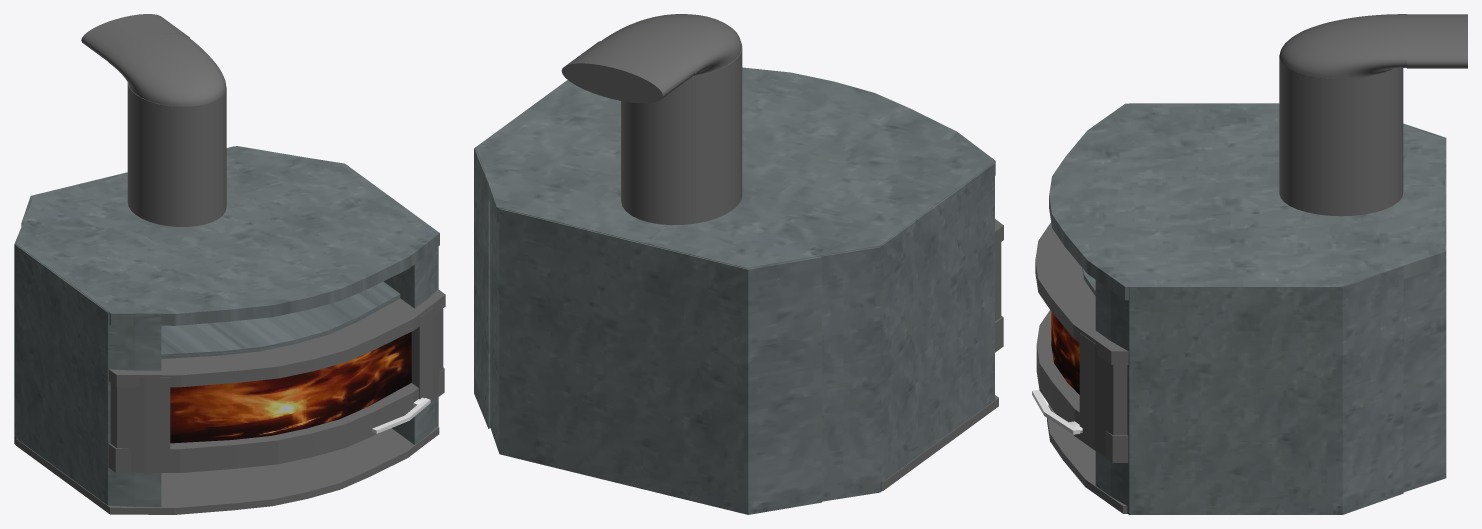
The model's file is sh-contrib-ator-haut.glb.
The picture shows the model from 3 angles, left to right: view 1: azimuth 30°, elevation 25°; view 2: azimuth 150°, elevation 25°; view 3: azimuth 270°, elevation 25°; orthographic projection. The views are drawn at different scales.
Visible parts, largest first — view 1: Extruded_Object_1_1, Extruded_Object_2_2, Extruded_Object_9_10, Extruded_Object_10_13; view 2: Extruded_Object_1_1, Extruded_Object_2_2; view 3: Extruded_Object_1_1, Extruded_Object_2_2, Extruded_Object_9_10, Extruded_Object_10_13.
Part boxes in pixels (x1=…): Extruded_Object_1_1: x1=14, y1=146, x2=439, y2=506; Extruded_Object_2_2: x1=15, y1=14, x2=445, y2=514; Extruded_Object_9_10: x1=170, y1=332, x2=411, y2=443; Extruded_Object_10_13: x1=372, y1=397, x2=430, y2=433; Extruded_Object_1_1: x1=474, y1=67, x2=995, y2=514; Extruded_Object_2_2: x1=561, y1=14, x2=1003, y2=490; Extruded_Object_1_1: x1=1049, y1=103, x2=1446, y2=514; Extruded_Object_2_2: x1=1035, y1=14, x2=1467, y2=513; Extruded_Object_9_10: x1=1051, y1=312, x2=1079, y2=394; Extruded_Object_10_13: x1=1032, y1=390, x2=1082, y2=434.
Size of the model in its own units: 1 by 1 by 1.
4 materials, 2 textured.
